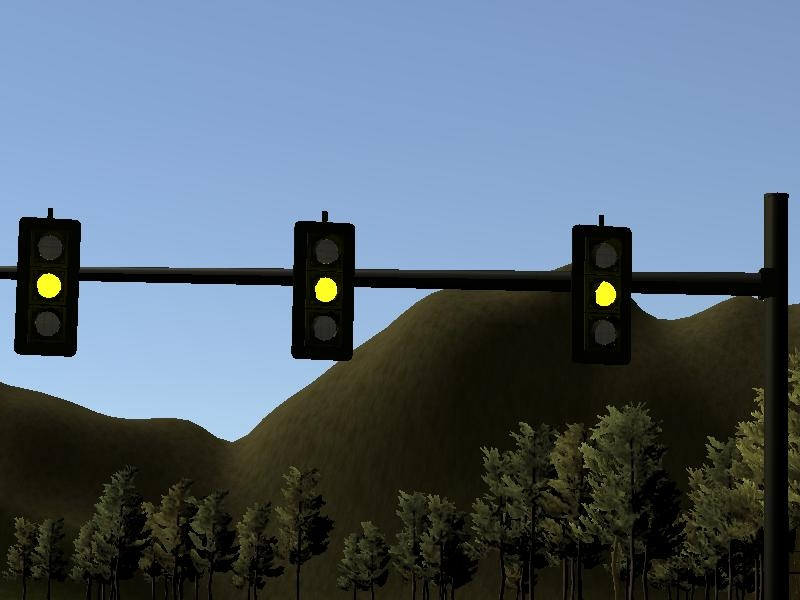yellow: (283, 203, 363, 368), (562, 208, 642, 372), (9, 202, 85, 366)
